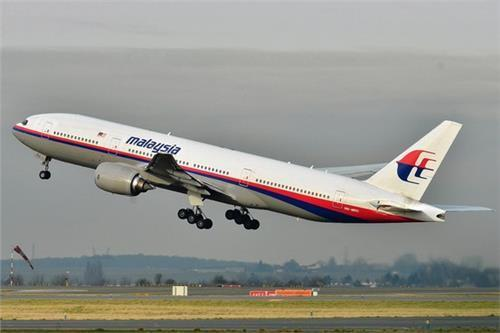airplane: (11, 109, 496, 231)
